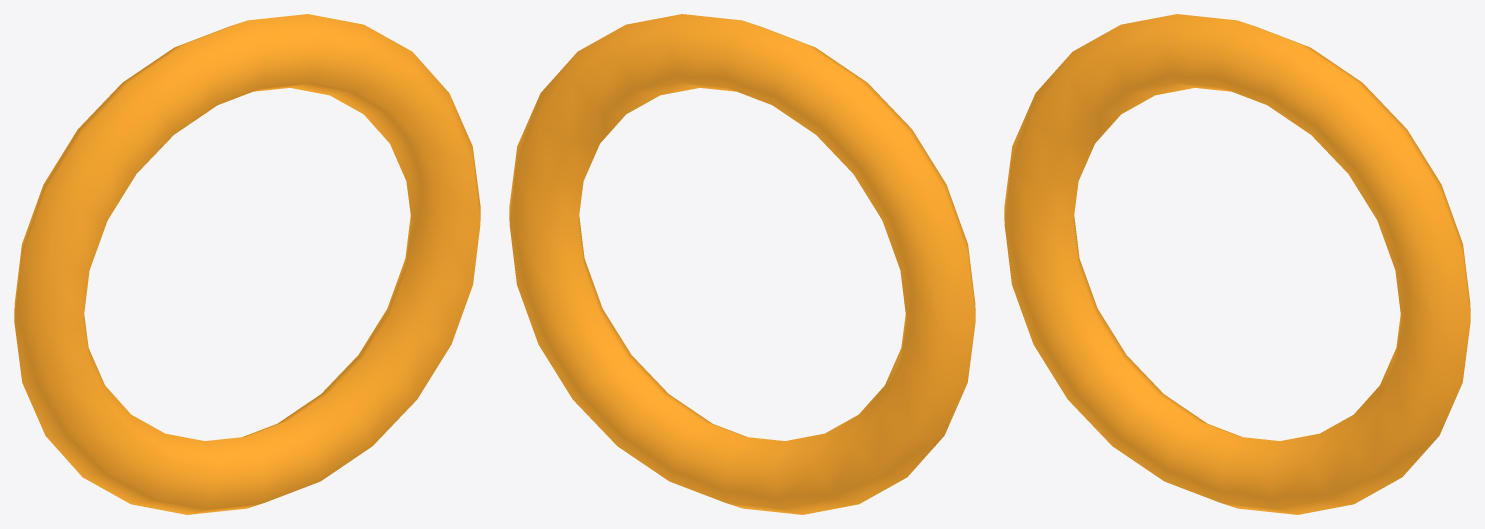
The model's file is ring_001.glb.
The picture shows the model from 3 angles, left to right: view 1: azimuth 30°, elevation 25°; view 2: azimuth 150°, elevation 25°; view 3: azimuth 330°, elevation 25°; orthographic projection.
Visible parts, largest first — view 1: ring_001; view 2: ring_001; view 3: ring_001.
Part boxes in pixels (x1,y1,x2,y2): ring_001: [14, 14, 480, 514]; ring_001: [509, 14, 975, 514]; ring_001: [1004, 14, 1470, 514].
Size of the model in its own units: 0.923 by 0.923 by 0.119.
Materials: 1 (1 with a texture image).
